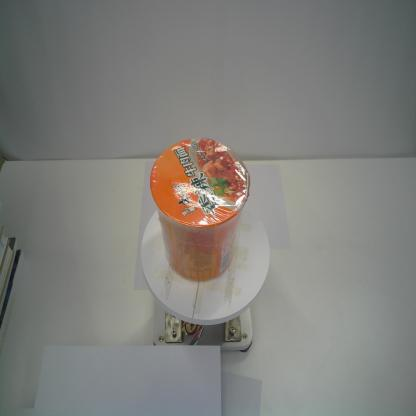Instant Noodles: (150, 137, 252, 282)
